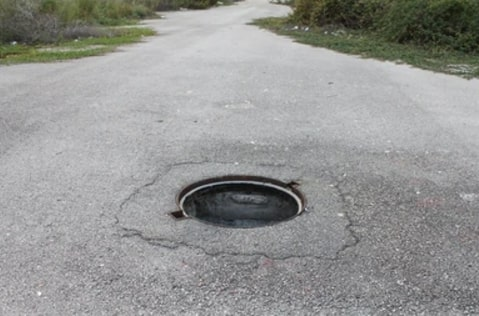open_manhole: (175, 166, 309, 237)
